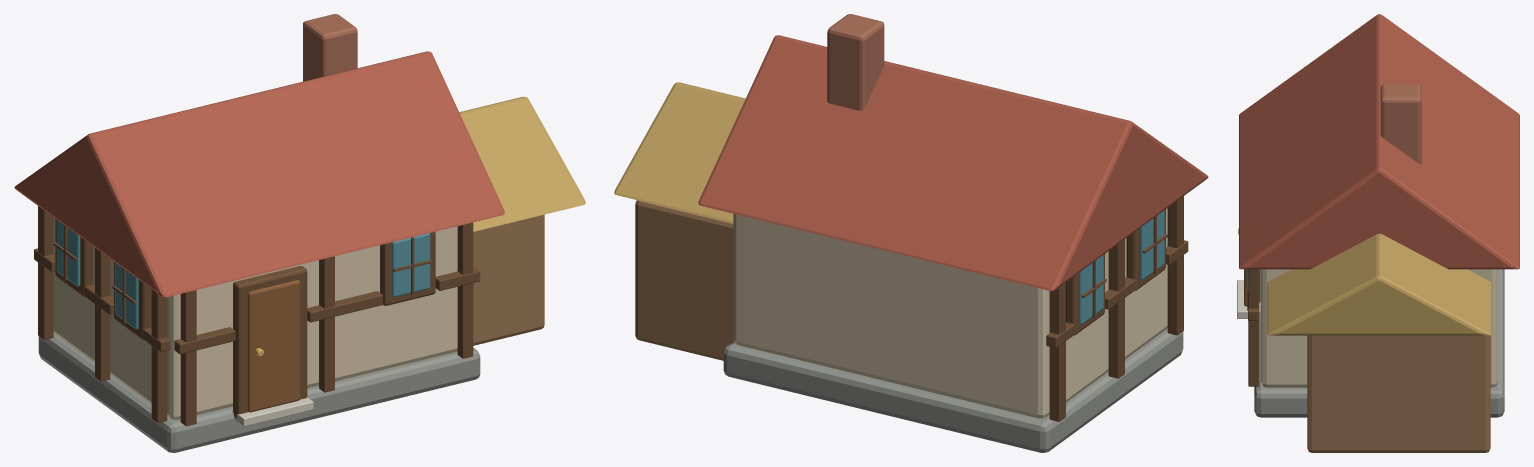
Rendered from temperate-cottage-1.glb.
The picture shows the model from 3 angles, left to right: view 1: azimuth 30°, elevation 25°; view 2: azimuth 150°, elevation 25°; view 3: azimuth 270°, elevation 25°; orthographic projection. The views are drawn at different scales.
Parts seen in each view (by area): view 1: Clay tiles, Ivory plaster, Dark beams, Foundation stone, Golden thatch, Aged oak, Door oak, Blue glass, Chimney brick, Cut limestone; view 2: Clay tiles, Ivory plaster, Foundation stone, Aged oak, Golden thatch, Dark beams, Chimney brick, Blue glass; view 3: Clay tiles, Aged oak, Golden thatch, Ivory plaster, Foundation stone, Chimney brick, Dark beams, Cut limestone.
Boxes of the visible parts, x1,y1,x2,y2 form: Clay tiles: (14,51,504,297); Ivory plaster: (53,217,457,419); Dark beams: (34,206,480,426); Foundation stone: (38,333,480,452); Golden thatch: (459,96,585,231); Aged oak: (473,214,544,345); Door oak: (247,280,300,412); Blue glass: (56,220,430,329); Chimney brick: (303,14,357,81); Cut limestone: (232,397,313,426); Clay tiles: (698,35,1208,291); Ivory plaster: (733,208,1167,418); Foundation stone: (723,328,1183,452); Aged oak: (635,200,734,360); Golden thatch: (614,82,745,223); Dark beams: (1046,196,1188,421); Chimney brick: (827,14,884,110); Blue glass: (1079,210,1164,324); Clay tiles: (1239,14,1519,269); Aged oak: (1307,335,1490,452); Golden thatch: (1267,233,1491,335); Ivory plaster: (1261,269,1497,387); Foundation stone: (1254,269,1504,417); Chimney brick: (1380,84,1421,164); Dark beams: (1244,269,1260,386); Cut limestone: (1237,280,1260,318).
Size of the model in its own units: 4.4 by 3.02 by 2.62.
